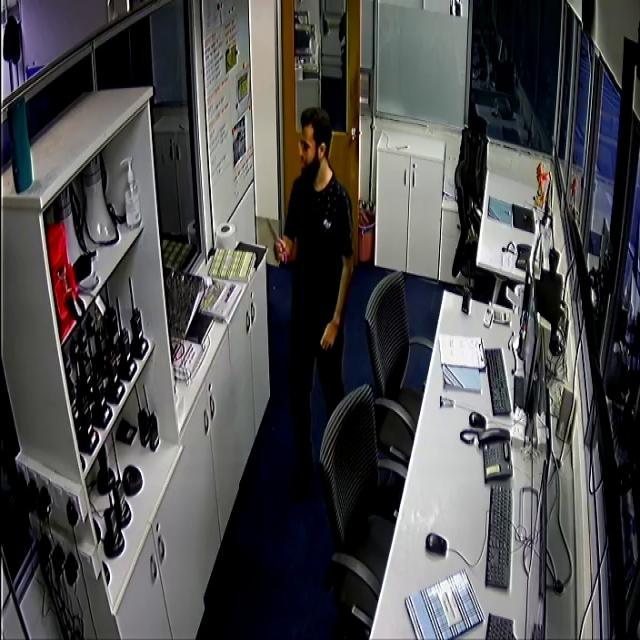Knife: (264, 216, 292, 266)
